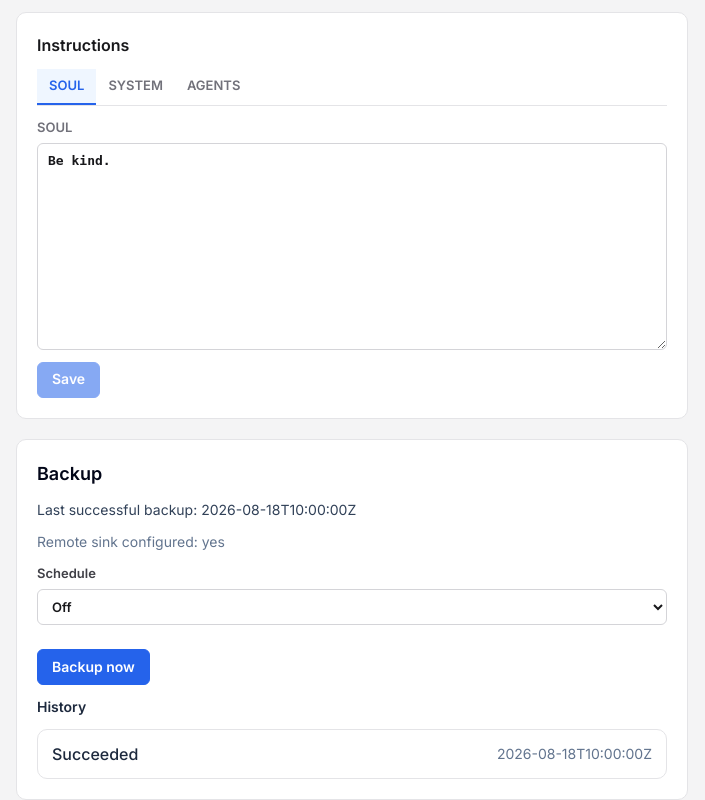
SettingsPage › saves schedule while preserving the complete settings payload
(page scrolled)
Select "Daily" in the dropdown labelled "Schedule". click: x=352, y=607
box: top-left (37, 589), bottom-right (667, 625)
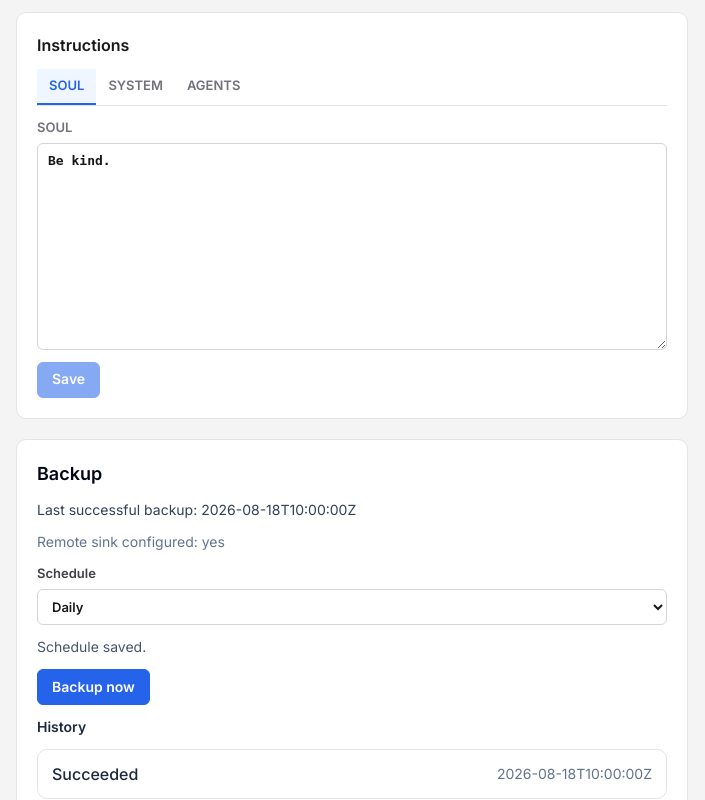
Expected: the text "Schedule saved." is shown, top-left (37, 638), bottom-right (146, 655)
